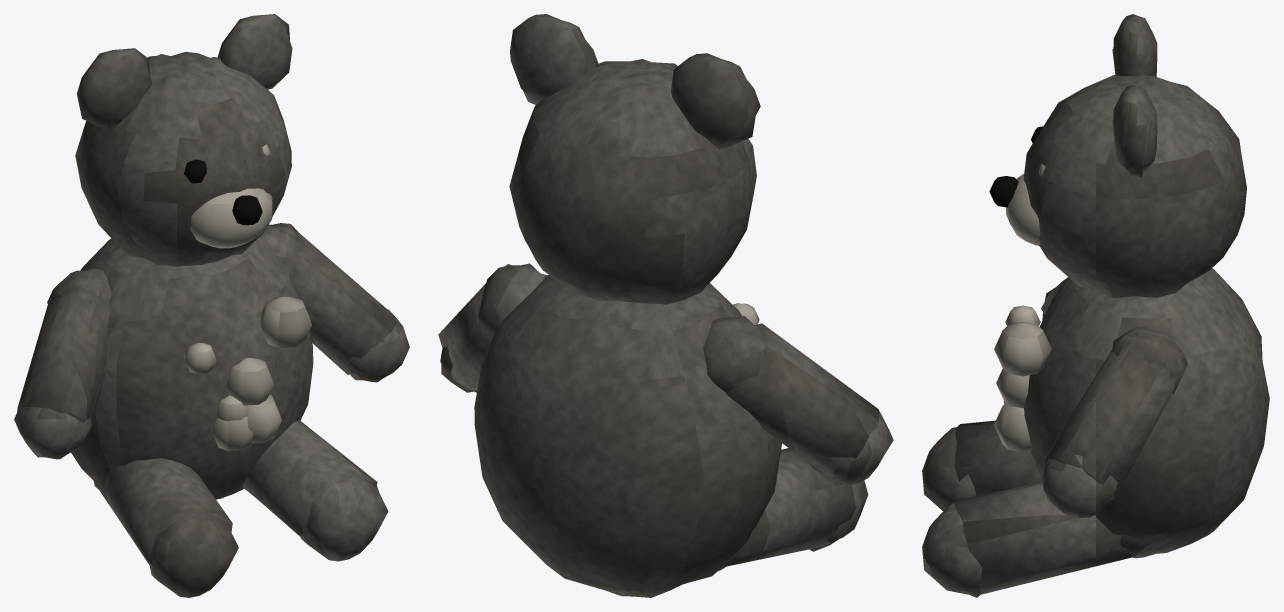
Rendered from T01_teddy_bear_v2.glb.
3 views of the same model, side by side, from view 1: azimuth 30°, elevation 25°; view 2: azimuth 150°, elevation 25°; view 3: azimuth 270°, elevation 25° (orthographic). The views are drawn at different scales.
Visible parts, largest first — view 1: T01_teddy_bear_v2; view 2: T01_teddy_bear_v2; view 3: T01_teddy_bear_v2.
Boxes of the visible parts, <box> form: T01_teddy_bear_v2: <box>14,14,409,597</box>; T01_teddy_bear_v2: <box>438,14,893,597</box>; T01_teddy_bear_v2: <box>922,14,1269,597</box>.
Bounding box in the file's own units: 0.4137 × 0.5 × 0.3143.
3 materials, 3 textured.
